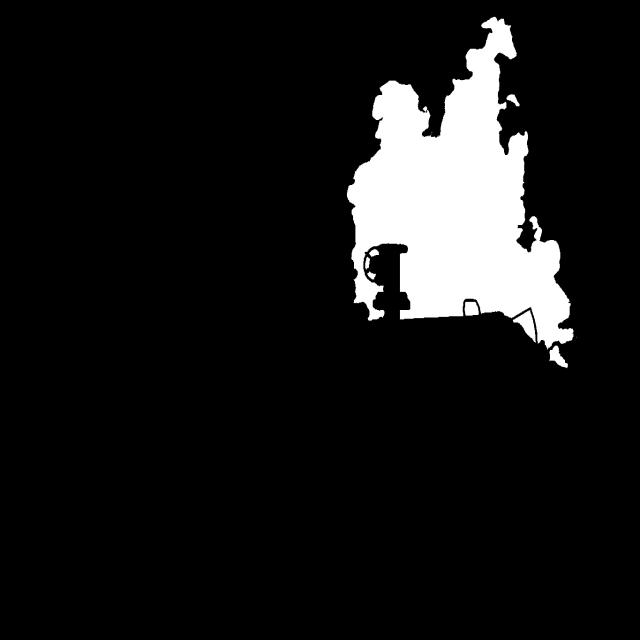fire: (280, 28, 640, 402)
